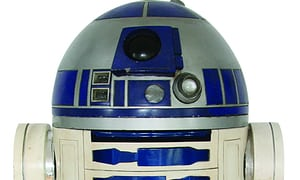r2d2: (12, 1, 285, 180)
